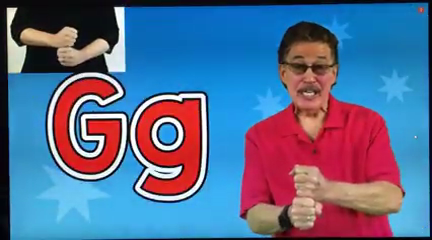G: (284, 160, 326, 234), (52, 23, 80, 70)
